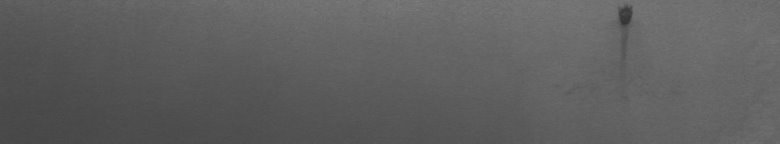fi: (612, 4, 639, 59)
